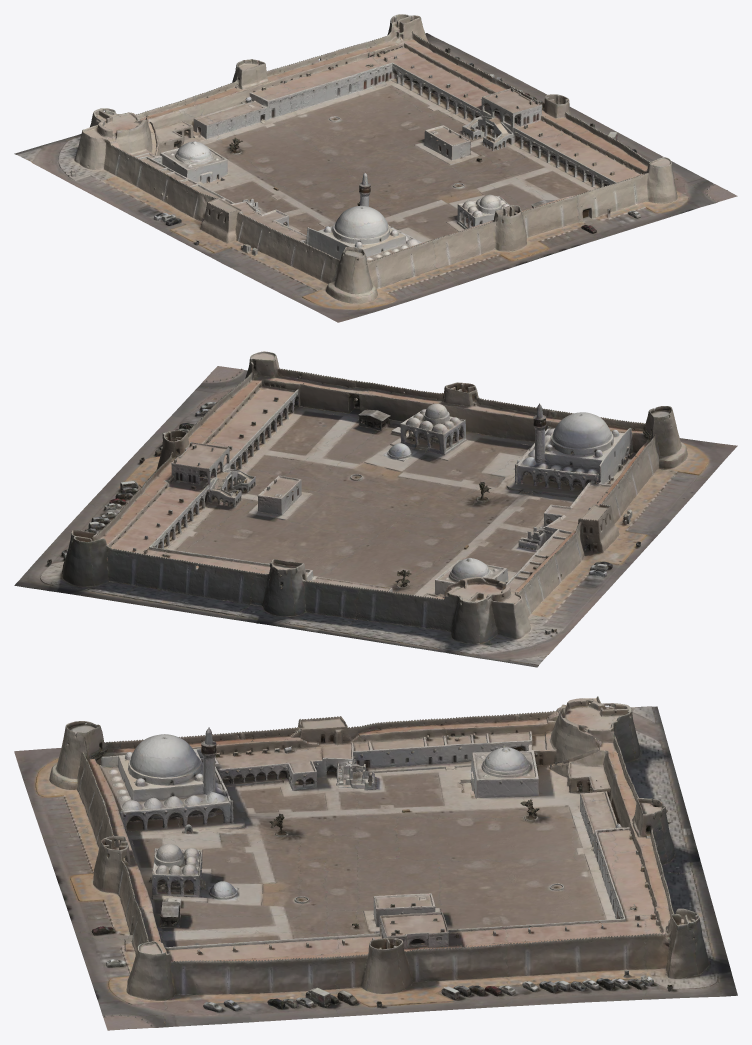
The picture shows the model from 3 angles, top to bottom: view 1: azimuth 30°, elevation 25°; view 2: azimuth 150°, elevation 25°; view 3: azimuth 270°, elevation 25°; orthographic projection. The views are drawn at different scales.
Parts seen in each view (by area): view 1: SAU_002_M3_QasrIbrahim_Mosque; view 2: SAU_002_M3_QasrIbrahim_Mosque; view 3: SAU_002_M3_QasrIbrahim_Mosque.
Boxes of the visible parts, x1,y1,x2,y2 form: SAU_002_M3_QasrIbrahim_Mosque: (14, 14, 737, 322); SAU_002_M3_QasrIbrahim_Mosque: (14, 351, 737, 667); SAU_002_M3_QasrIbrahim_Mosque: (14, 696, 737, 1030).
Size of the model in its own units: 170 by 25.52 by 165.
1 material, 1 textured.
